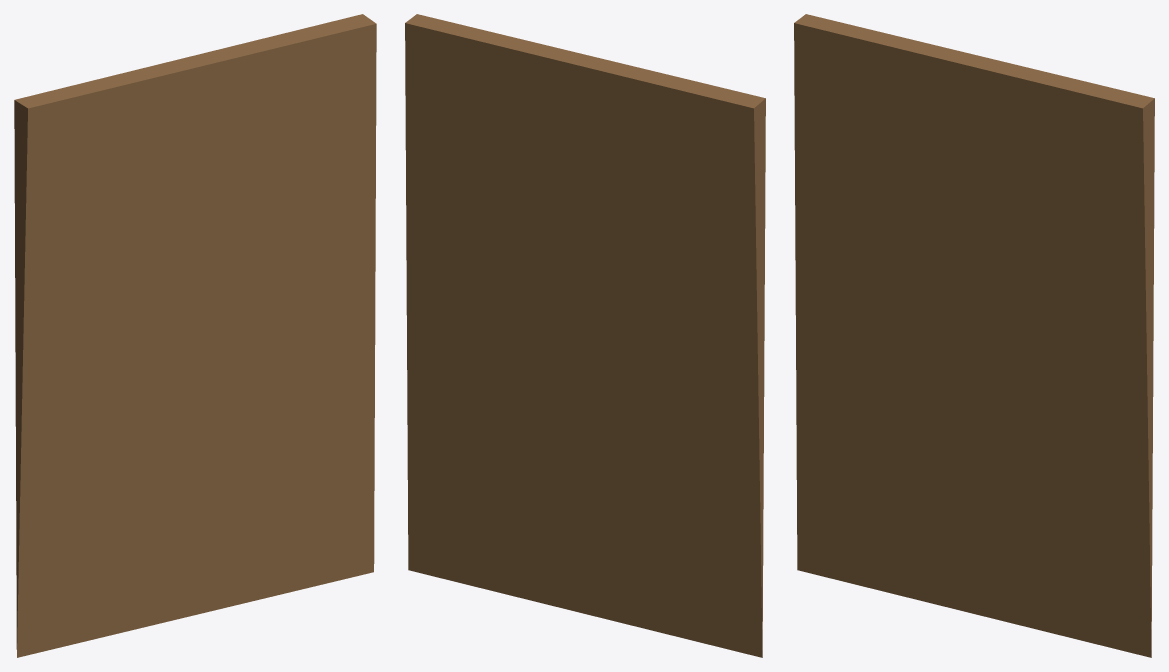
File: harbor-wall.lod2.glb
3 renders of one model, left to right at view 1: azimuth 30°, elevation 25°; view 2: azimuth 150°, elevation 25°; view 3: azimuth 330°, elevation 25°, orthographic.
Parts seen in each view (by area): view 1: harbor-wall__body; view 2: harbor-wall__body; view 3: harbor-wall__body.
Part boxes in pixels (x1=…): harbor-wall__body: x1=14, y1=14, x2=376, y2=657; harbor-wall__body: x1=405, y1=14, x2=765, y2=657; harbor-wall__body: x1=794, y1=14, x2=1154, y2=657.
Size of the model in its own units: 2.02 by 3 by 0.1292.
